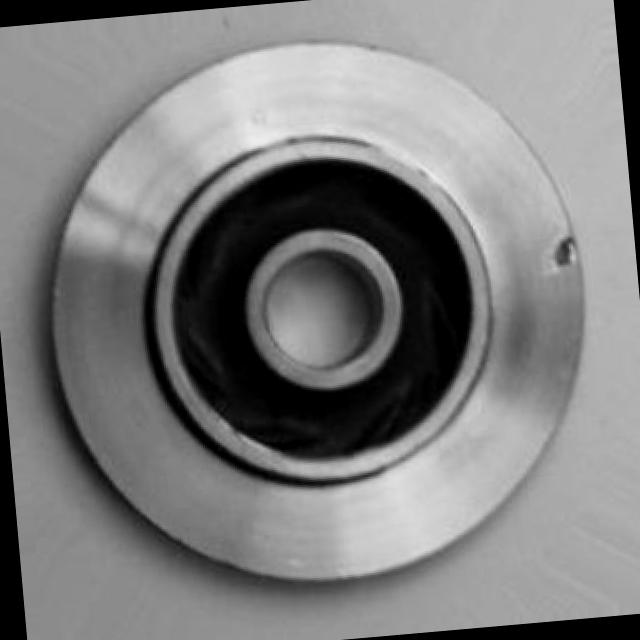Defect: (554, 233, 580, 276)
